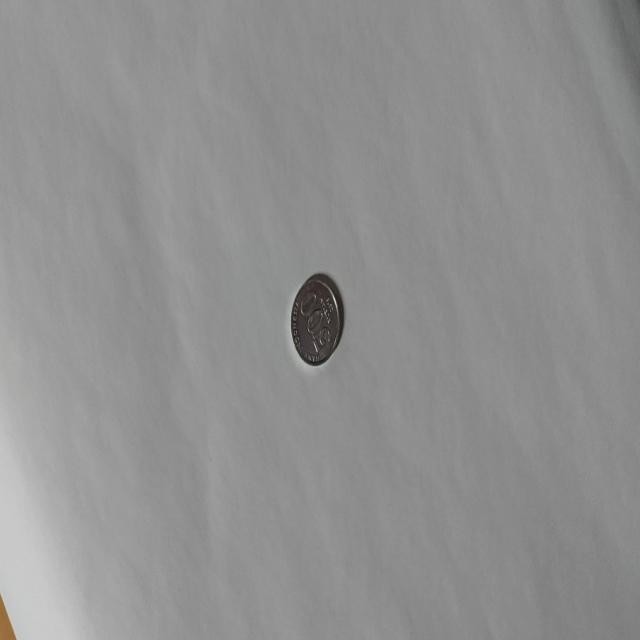lima ratus rupiah: (290, 272, 342, 367)
